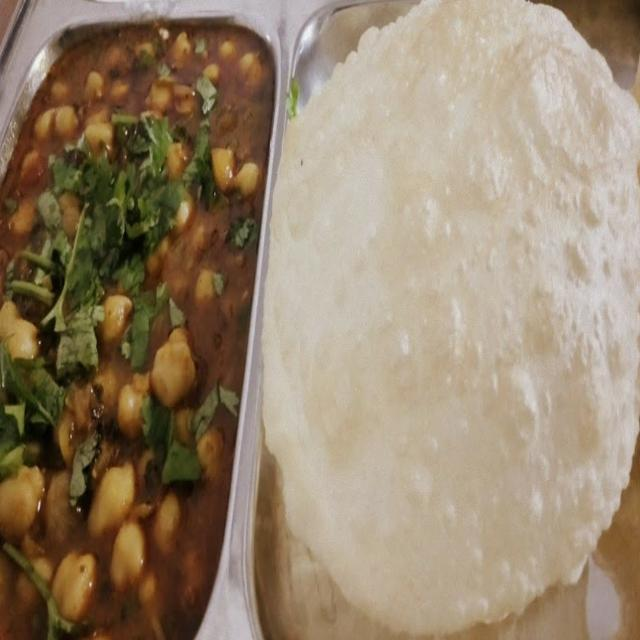Bhatura: (264, 0, 640, 637)
